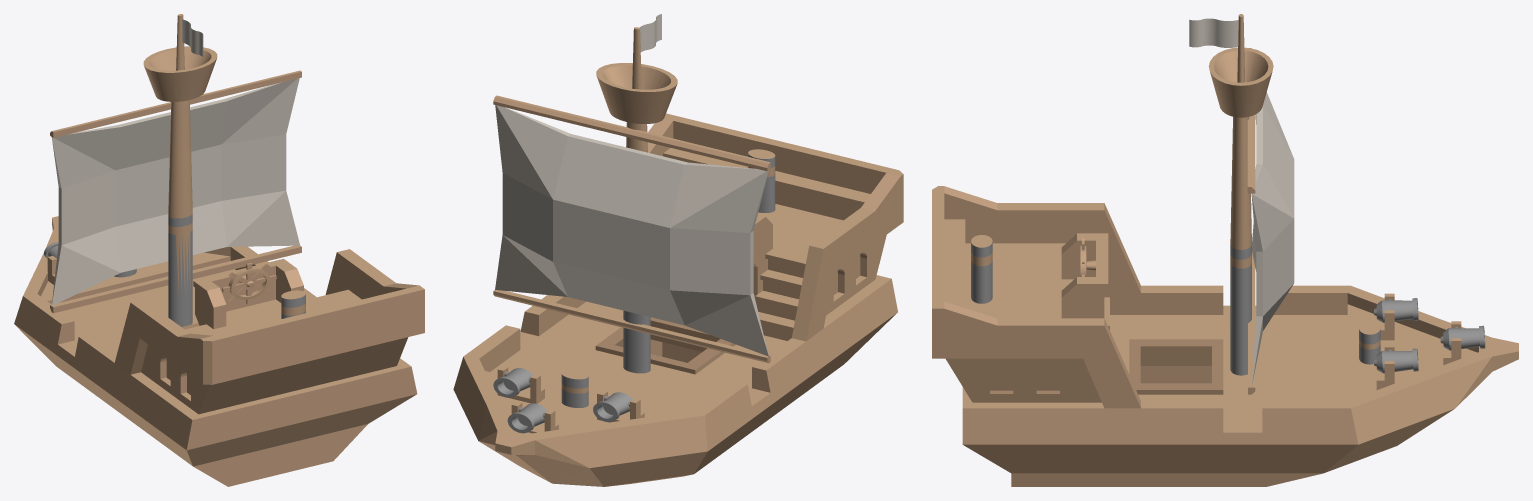
The model's file is AoE_Ship.fbx.
3 renders of one model, left to right at view 1: azimuth 30°, elevation 25°; view 2: azimuth 150°, elevation 25°; view 3: azimuth 270°, elevation 25°, orthographic. The views are drawn at different scales.
Parts seen in each view (by area): view 1: Ship_AoE, sail_middle 1, steering 1; view 2: Ship_AoE, sail_middle 1, cannon_front 1.001, cannon_front 1.003, cannon_front 1.005, cannon_front 1.002, cannon_front 1; view 3: Ship_AoE, sail_middle 1, cannon_front 1.005, cannon_front 1.001, cannon_front 1.003.
Part boxes in pixels (bbox=[...]): Ship_AoE: bbox=[14, 14, 424, 486]; sail_middle 1: bbox=[50, 70, 301, 313]; steering 1: bbox=[222, 263, 276, 304]; Ship_AoE: bbox=[453, 14, 903, 486]; sail_middle 1: bbox=[493, 95, 770, 363]; cannon_front 1.001: bbox=[507, 403, 546, 433]; cannon_front 1.003: bbox=[493, 368, 532, 397]; cannon_front 1.005: bbox=[593, 392, 632, 422]; cannon_front 1.002: bbox=[497, 366, 544, 403]; cannon_front 1: bbox=[511, 401, 558, 433]; Ship_AoE: bbox=[932, 14, 1518, 486]; sail_middle 1: bbox=[1247, 48, 1294, 394]; cannon_front 1.005: bbox=[1374, 298, 1418, 322]; cannon_front 1.001: bbox=[1440, 325, 1485, 350]; cannon_front 1.003: bbox=[1374, 348, 1418, 373].
Size of the model in its own units: 4308 by 6390 by 7688.
